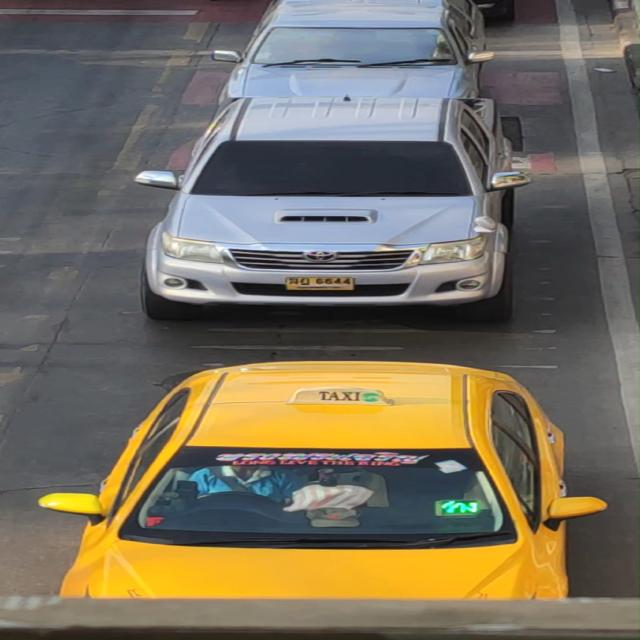car: (45, 361, 620, 604), (132, 97, 536, 321)
